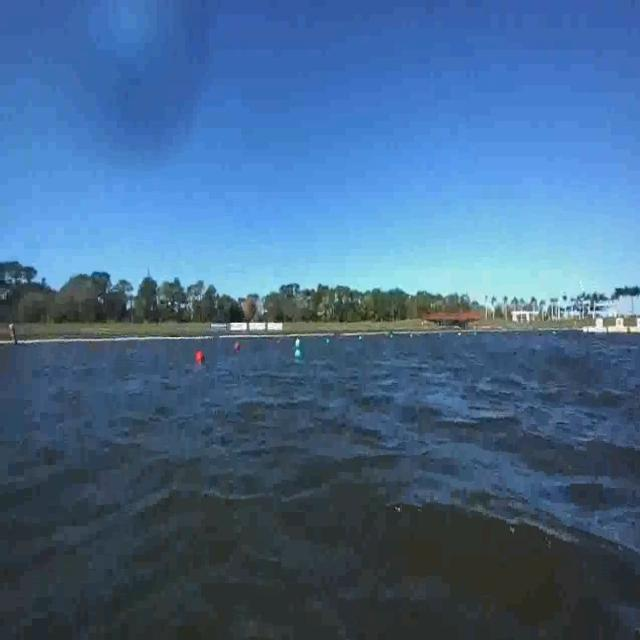green-buoy: (290, 346, 303, 366)
red-buoy: (197, 350, 207, 364)
